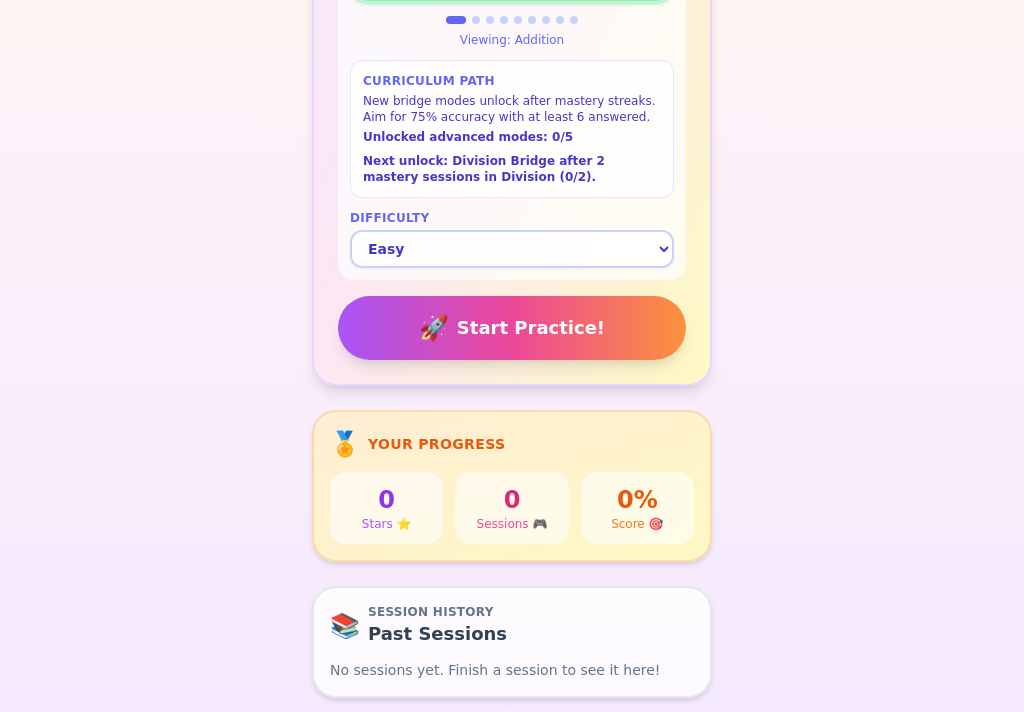
Test: locks challenge selection during a session
(page scrolled)
Step 1. Click the button "🚀 Start Practice!" → (512, 328), box [338, 296, 686, 360]
(page scrolled)
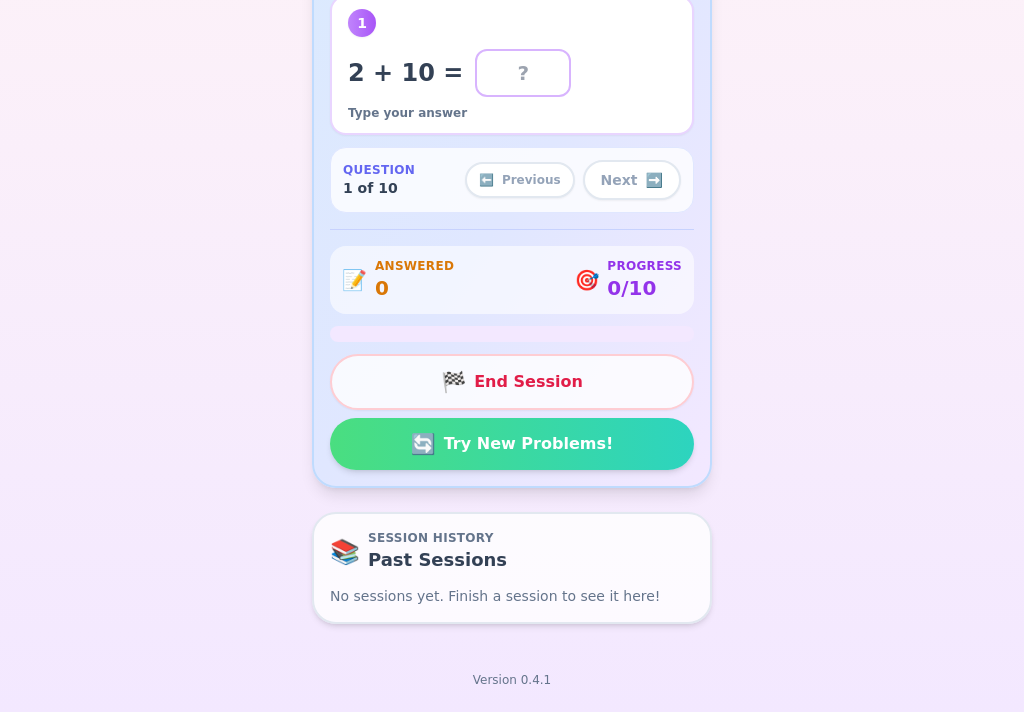
Step 2. Click the button with aria-label "end current session" → (512, 382), box [330, 354, 694, 410]
(page scrolled)
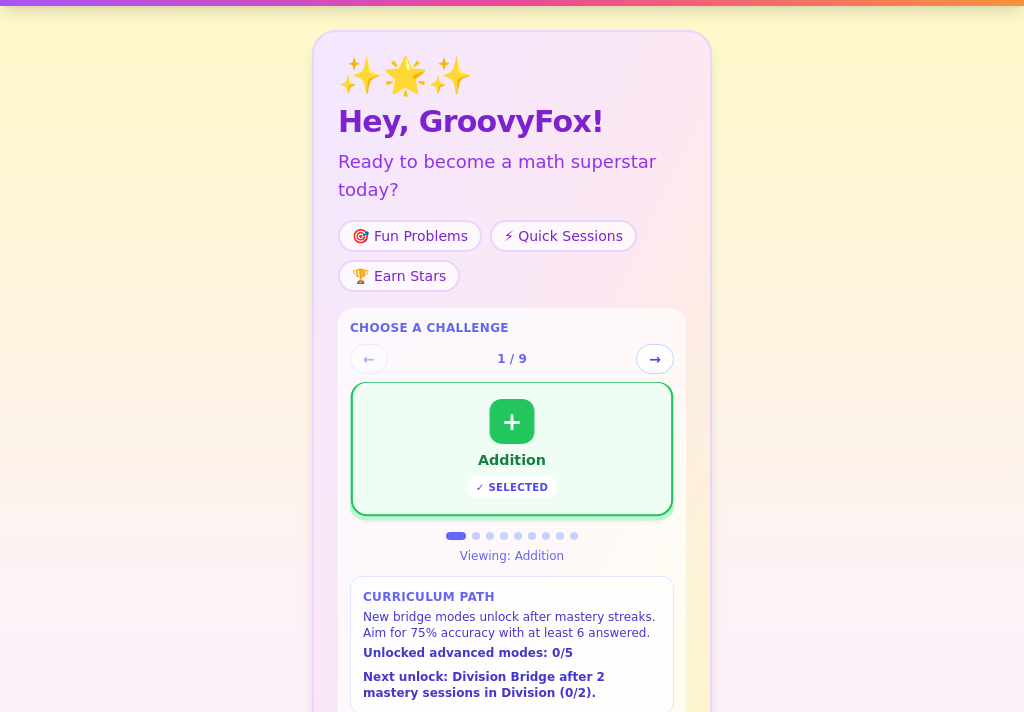
expect the text "Choose a Challenge" is shown: met, box [350, 321, 509, 335]
